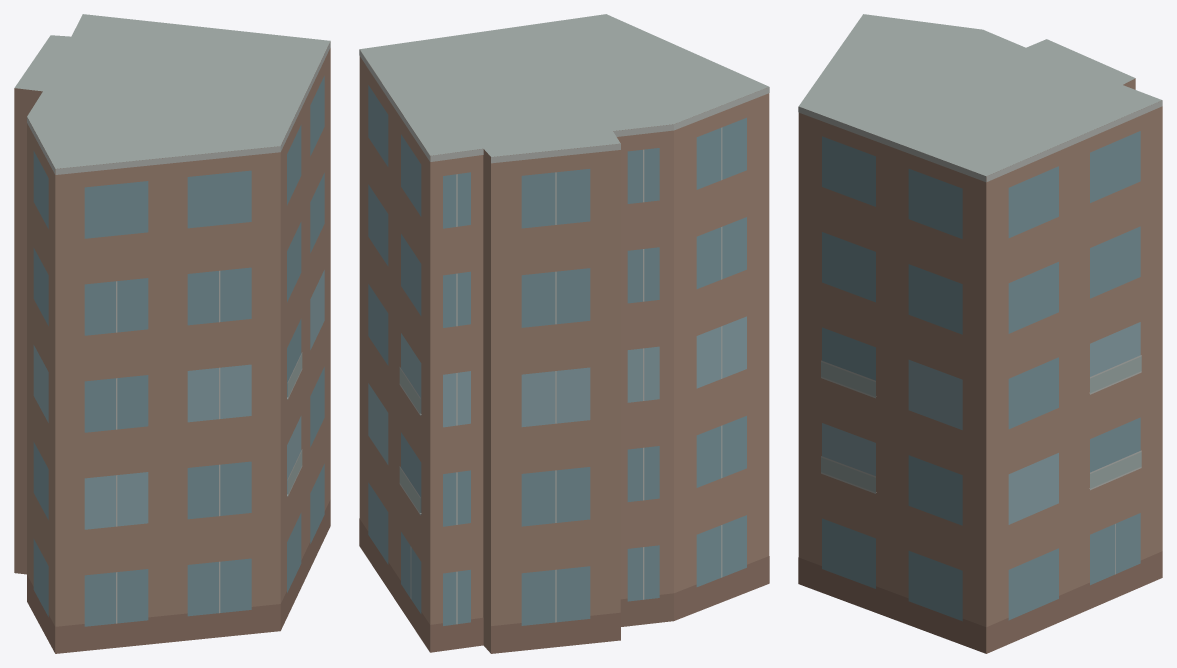
File: survey-upis-32874629.glb
3 renders of one model, left to right at view 1: azimuth 30°, elevation 25°; view 2: azimuth 150°, elevation 25°; view 3: azimuth 270°, elevation 25°, orthographic. The views are drawn at different scales.
Parts seen in each view (by area): view 1: survey-upis-32874629.tmp; view 2: survey-upis-32874629.tmp; view 3: survey-upis-32874629.tmp.
Part boxes in pixels (x1,y1,x2,y2): survey-upis-32874629.tmp: (14, 14, 330, 653); survey-upis-32874629.tmp: (359, 14, 769, 653); survey-upis-32874629.tmp: (798, 14, 1162, 653).
Bounding box in the file's own units: 14.04 × 19.25 × 13.31.
